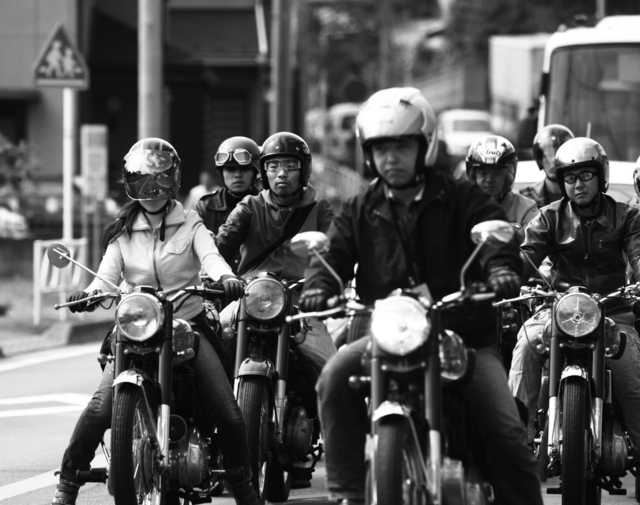helmet: (354, 99, 442, 149), (121, 139, 185, 171), (555, 142, 610, 175), (258, 130, 313, 162), (471, 135, 517, 169), (534, 125, 576, 153), (215, 139, 259, 164)
